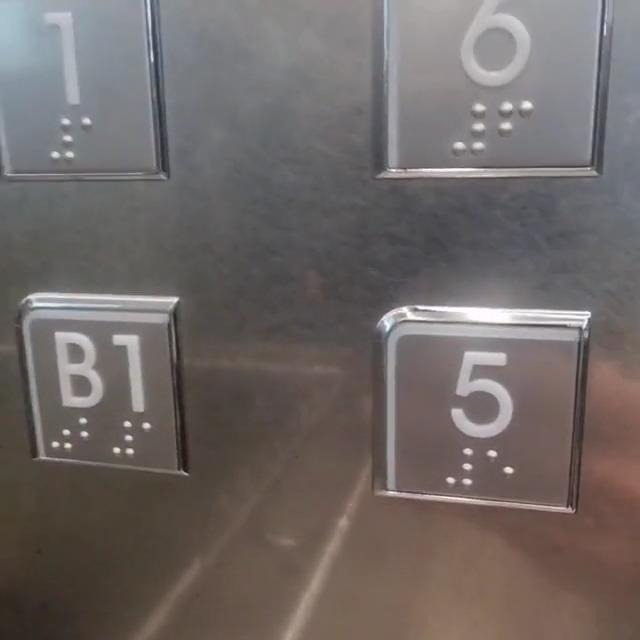button: (388, 0, 602, 190), (382, 311, 568, 520), (0, 0, 168, 174), (22, 299, 190, 460)
